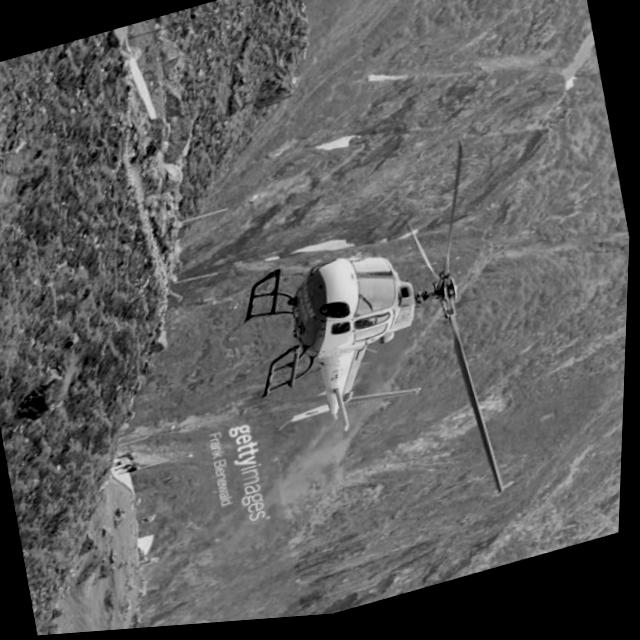helikopter: (216, 168, 528, 506)
